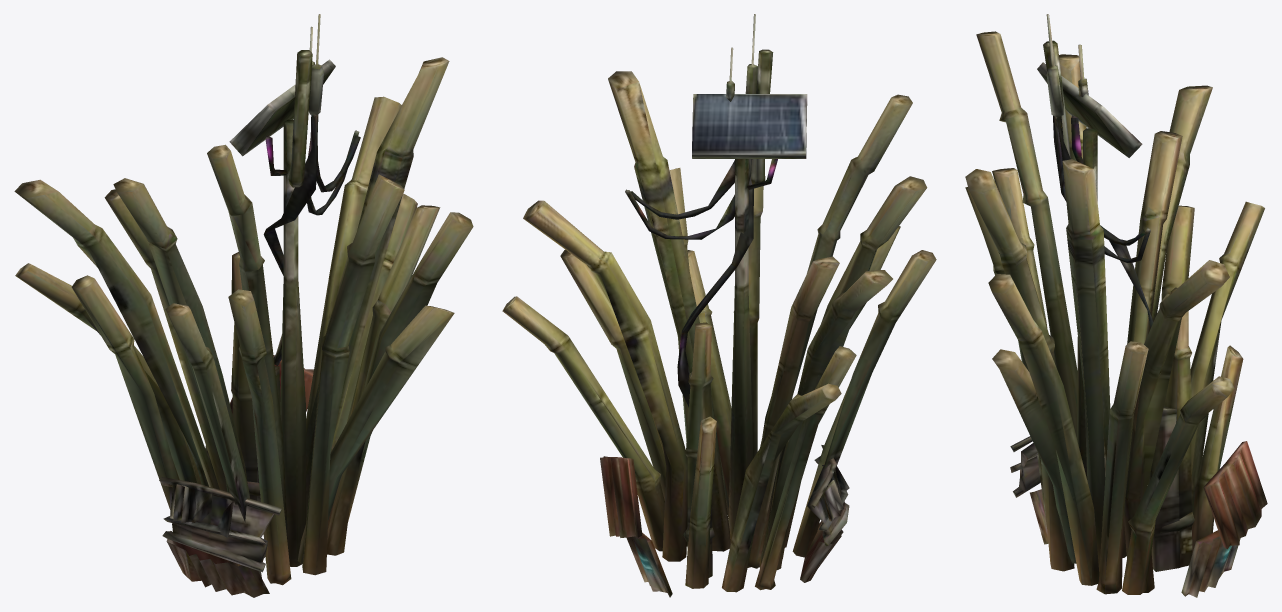
Rendered from bamboo_clump.glb.
3 renders of one model, left to right at view 1: azimuth 30°, elevation 25°; view 2: azimuth 150°, elevation 25°; view 3: azimuth 270°, elevation 25°, orthographic. The views are drawn at different scales.
Parts seen in each view (by area): view 1: Body; view 2: Body; view 3: Body.
Boxes of the visible parts, <box> form: Body: <box>14,14,473,597</box>; Body: <box>502,14,936,597</box>; Body: <box>965,14,1267,597</box>.
Bounding box in the file's own units: 7.46 × 10 × 4.87.
Materials: 1 (1 with a texture image).
